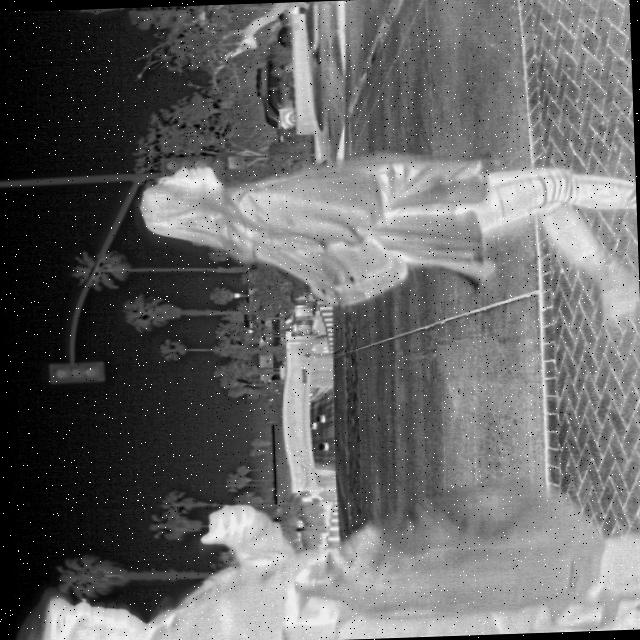Pedestrian: (136, 135, 640, 342), (6, 481, 640, 640)
